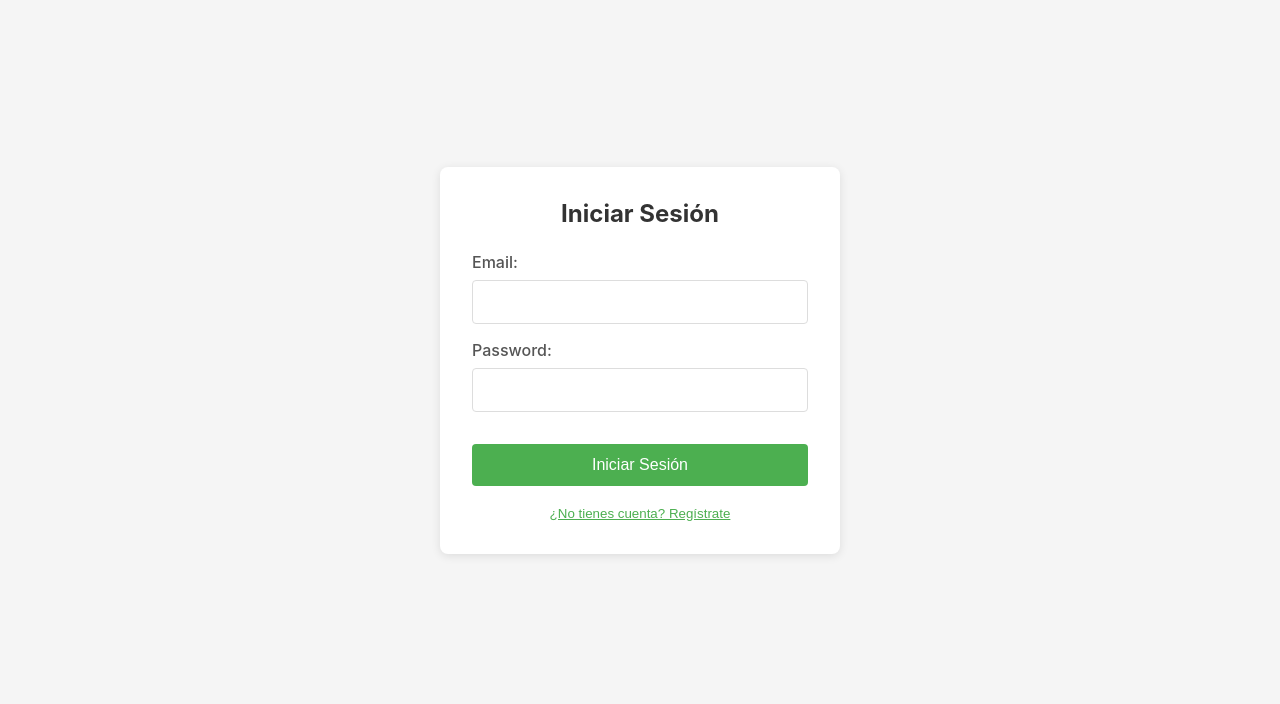
Test case: Posts Management › debería crear un post exitosamente
In the field with id "email": (640, 302) left=472, top=280, right=808, bottom=324, type "test@example.com"
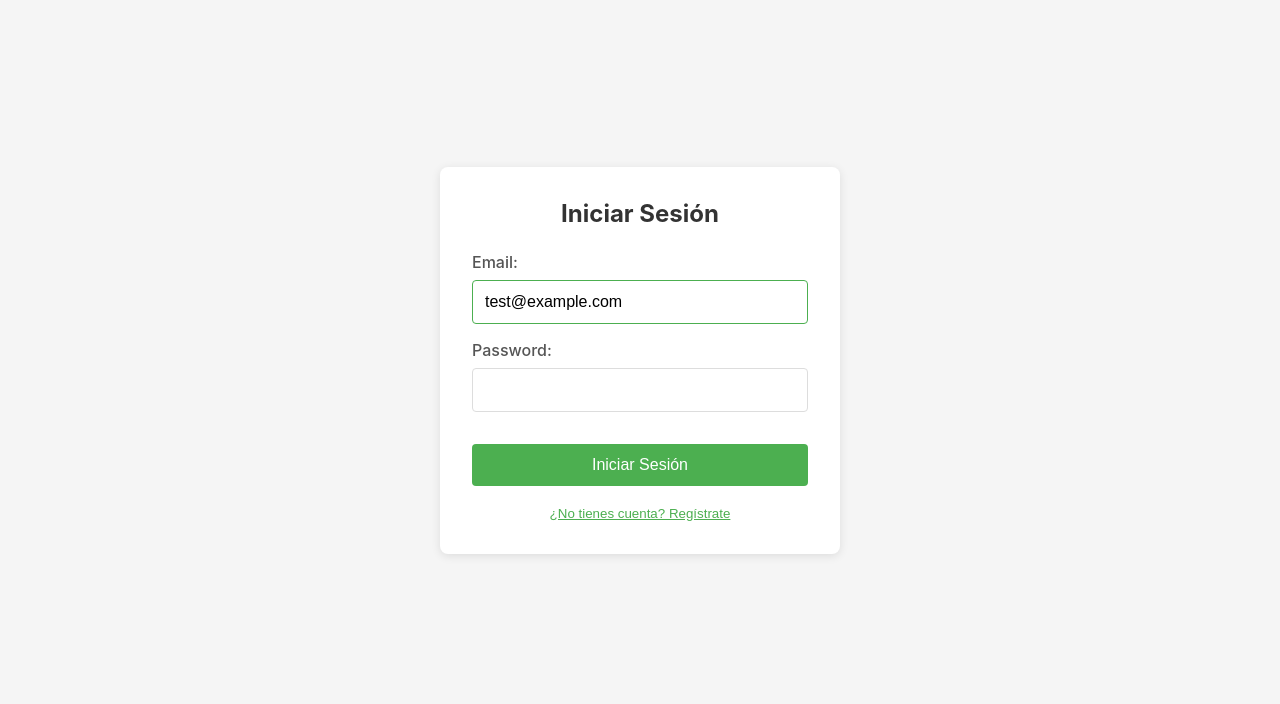
In the password field labelled "Password:": (640, 390) left=472, top=368, right=808, bottom=412, type "123456"
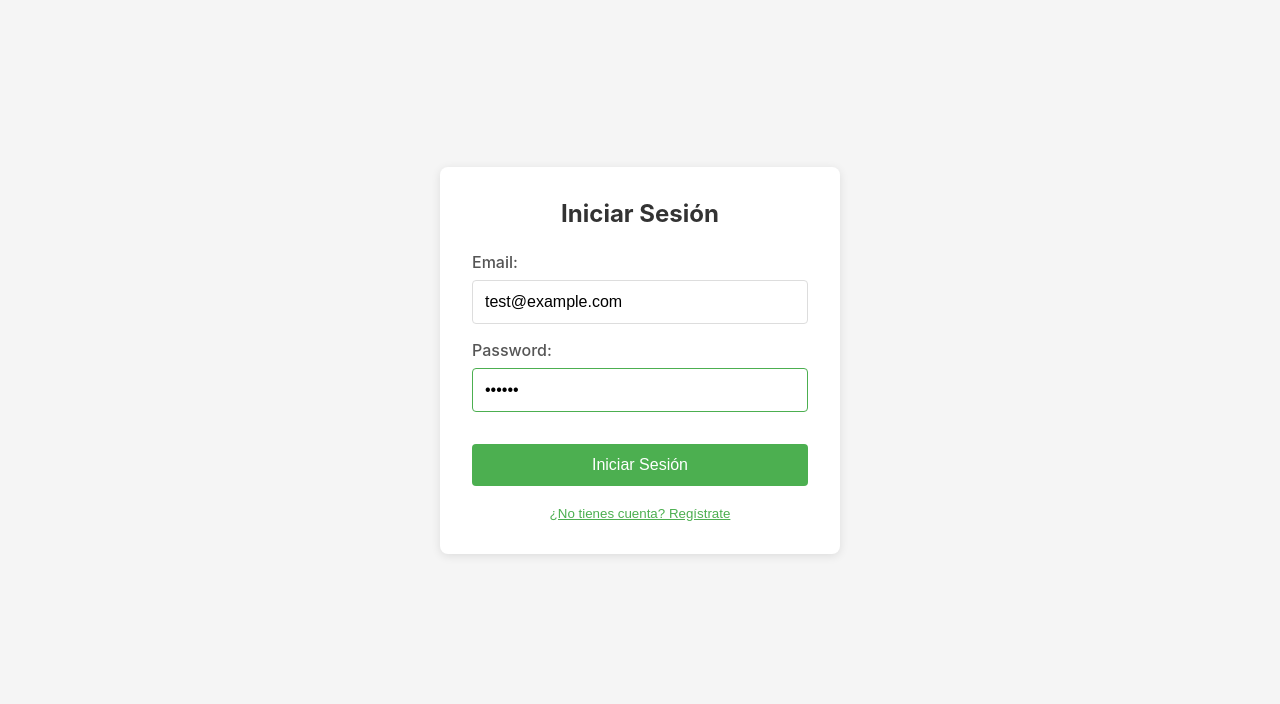
Click the submit button: (640, 465) left=472, top=444, right=808, bottom=486
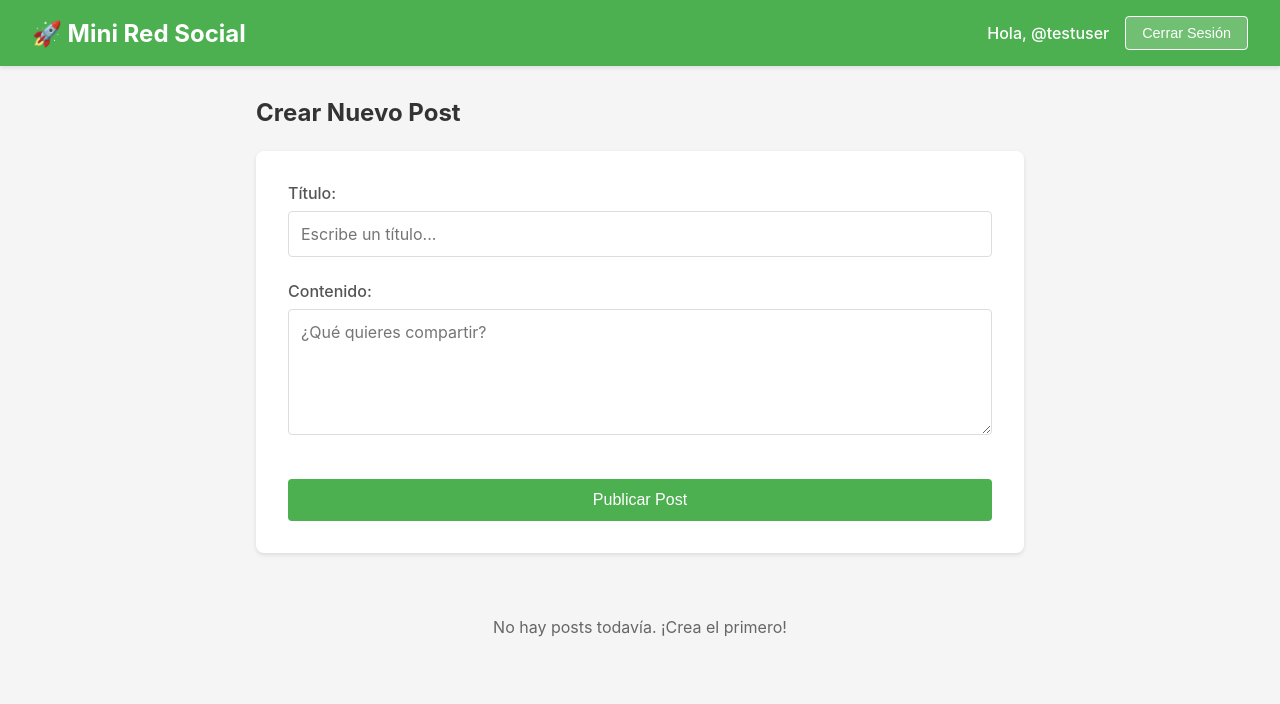
In the field with placeholder "Escribe un título...": (640, 234) left=288, top=211, right=992, bottom=257, type "Mi primer post"
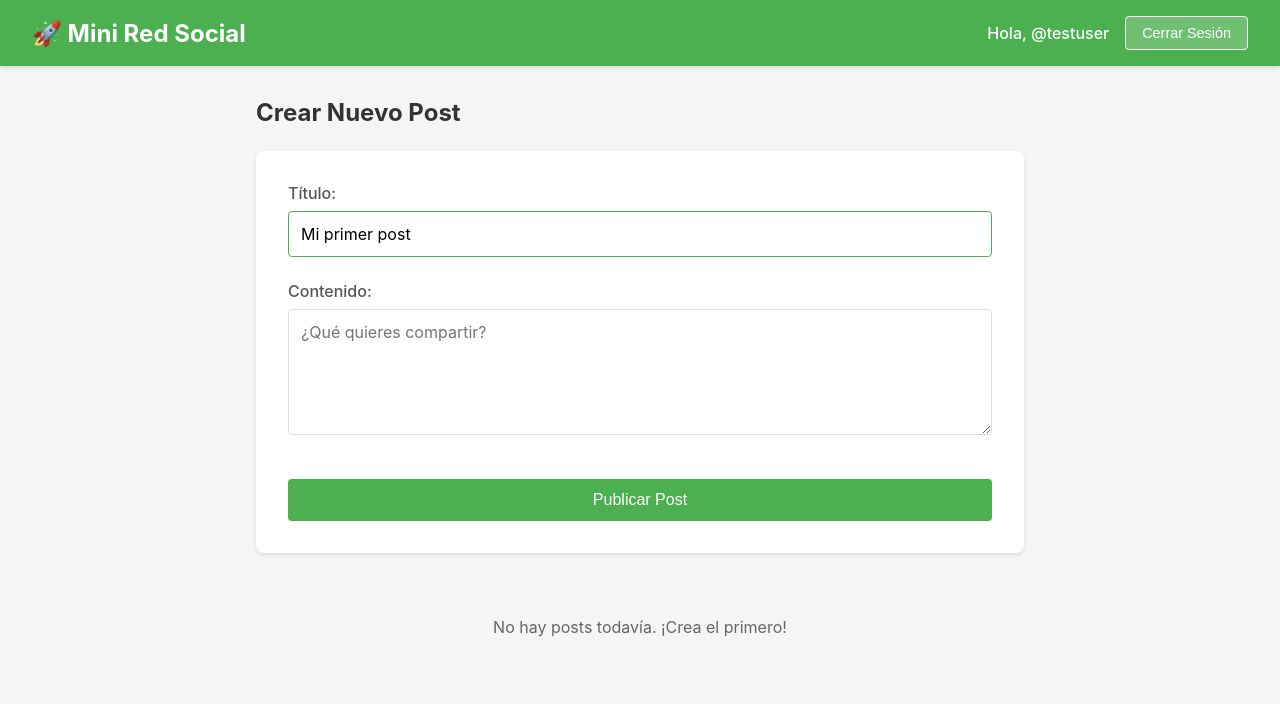
In the text box with placeholder "¿Qué quieres compartir?": (640, 372) left=288, top=309, right=992, bottom=435, type "Contenido de prueba"
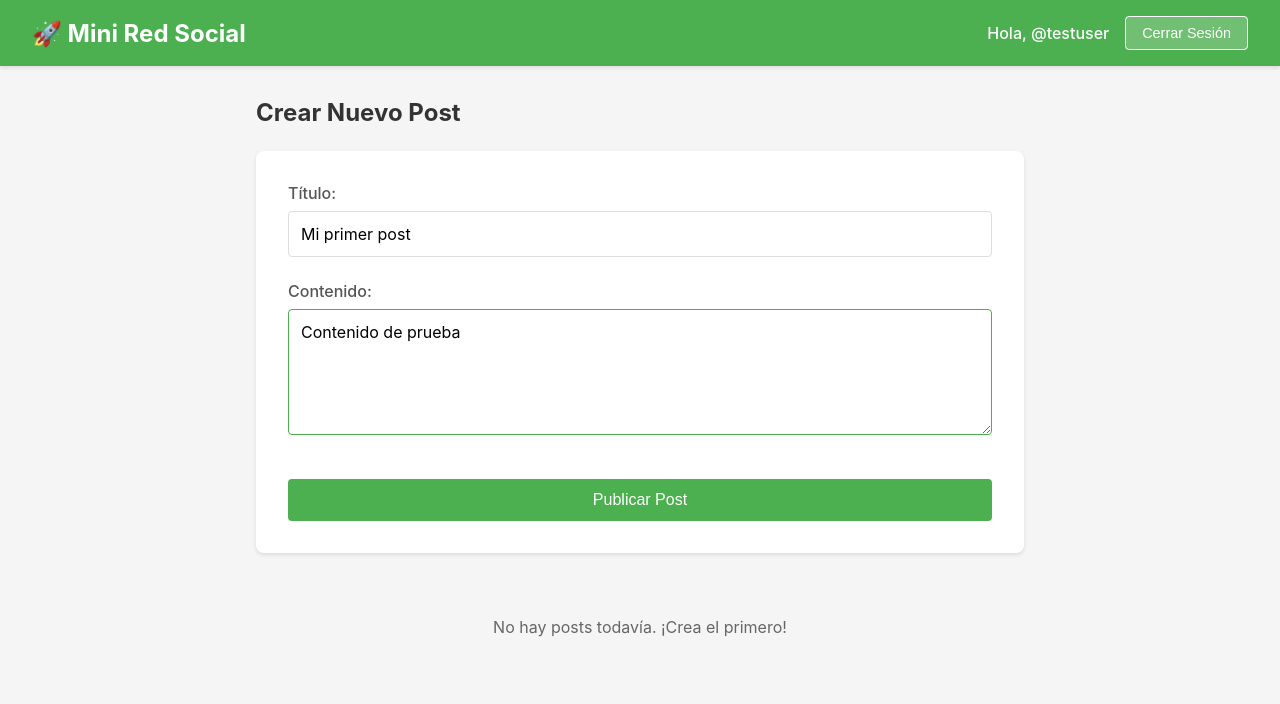
Click the button "Publicar Post": (640, 500) left=288, top=479, right=992, bottom=521
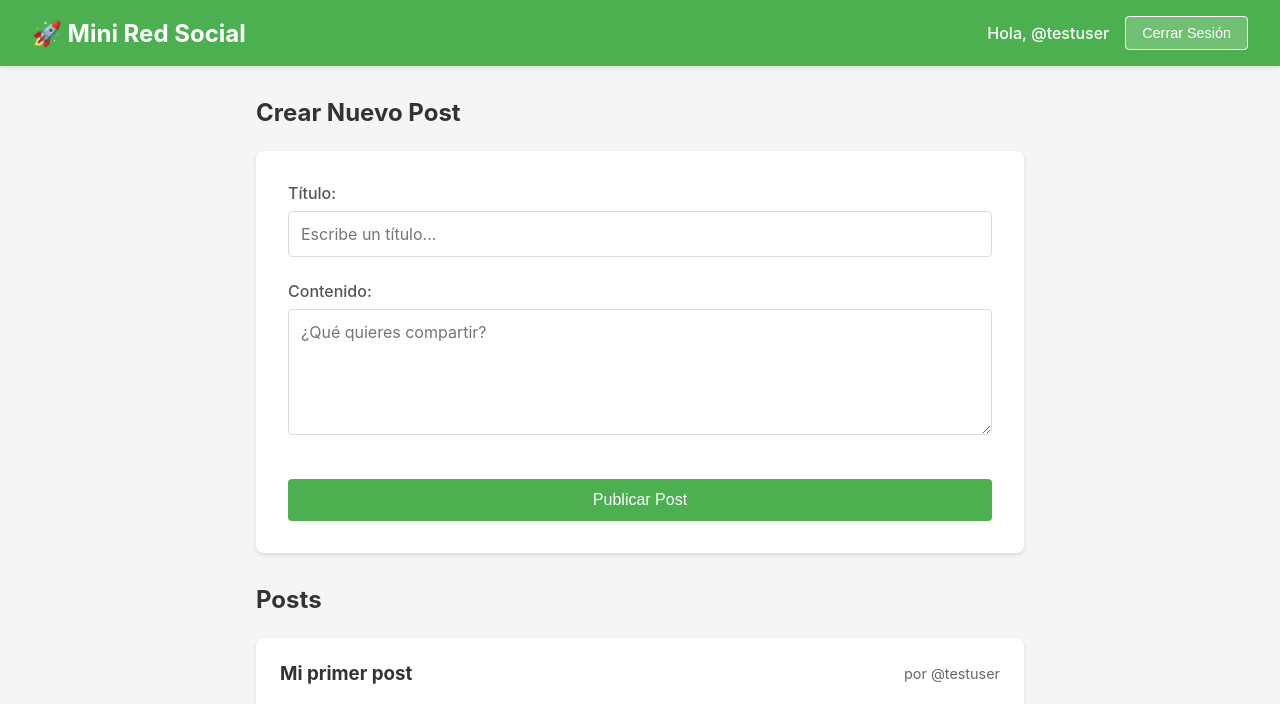
Result: the heading "Mi primer post" is shown at left=280, top=662, right=412, bottom=685
